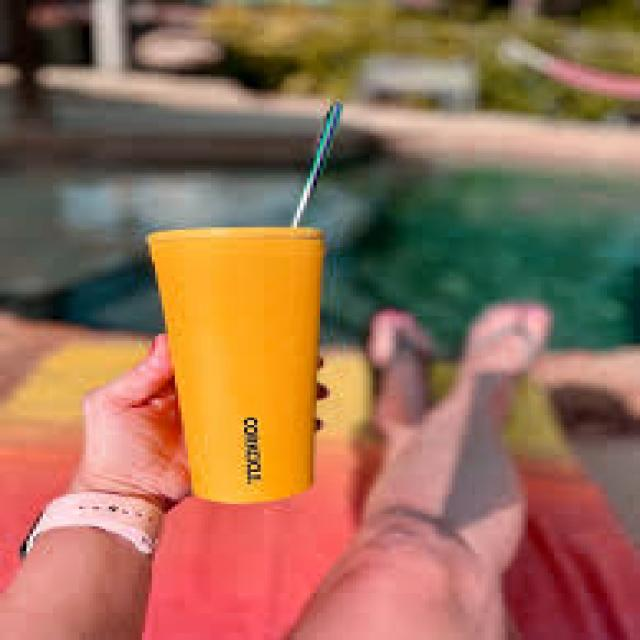bottle: (153, 96, 350, 503)
